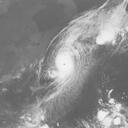cyclone: (53, 48, 78, 79)
